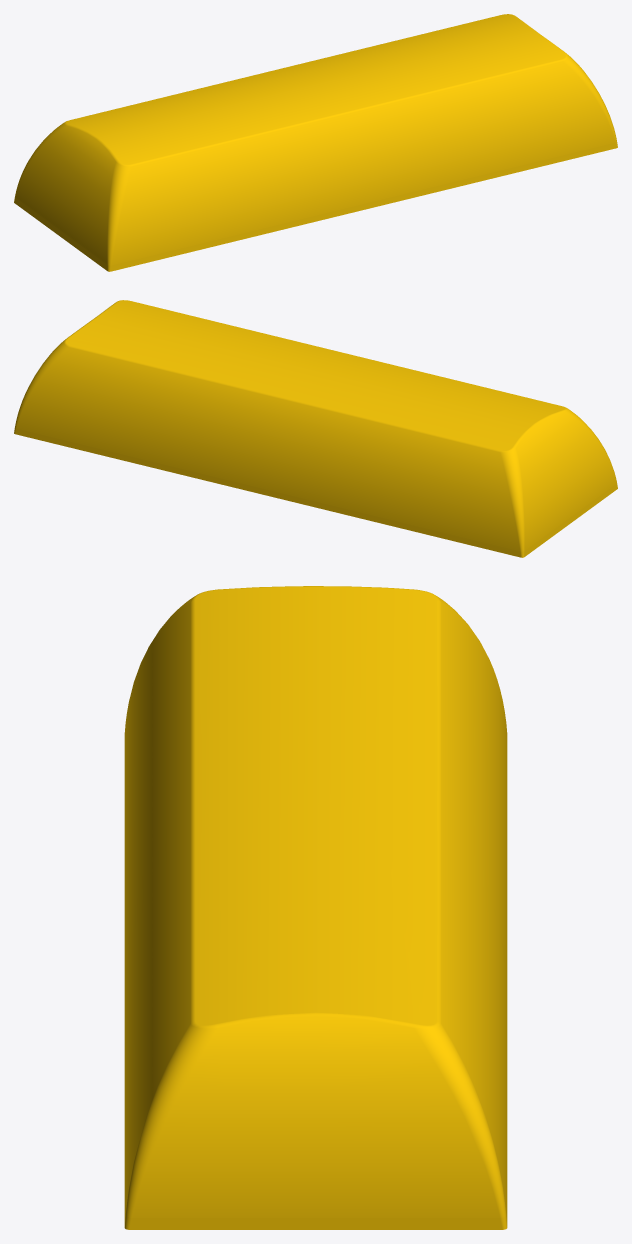
Rendered from 3u_convex.glb.
The picture shows the model from 3 angles, top to bottom: view 1: azimuth 30°, elevation 25°; view 2: azimuth 150°, elevation 25°; view 3: azimuth 270°, elevation 25°; orthographic projection. The views are drawn at different scales.
Visible parts, largest first — view 1: Body78; view 2: Body78; view 3: Body78.
Part boxes in pixels (box(x1,y1,x2,y2)): Body78: box(14, 14, 617, 271); Body78: box(14, 300, 617, 557); Body78: box(124, 586, 507, 1229).
Size of the model in its own units: 56.28 by 9.56 by 18.28.
